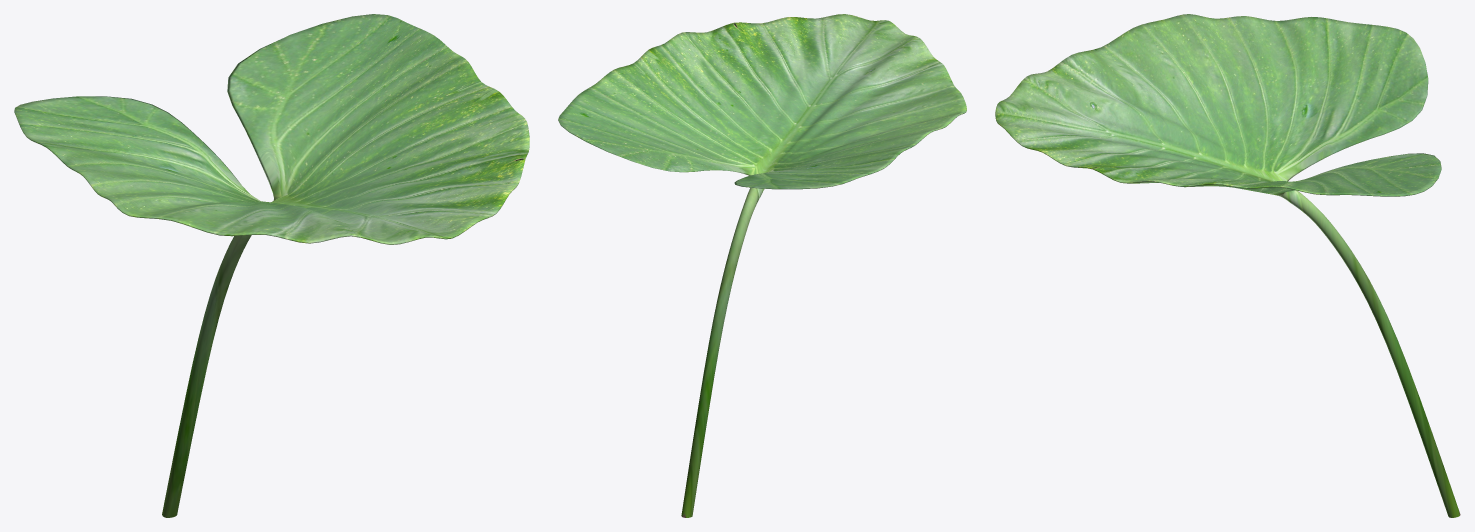
The model's file is TropicalLeaf.obj.
3 views of the same model, side by side, from view 1: azimuth 30°, elevation 25°; view 2: azimuth 150°, elevation 25°; view 3: azimuth 270°, elevation 25° (orthographic). The views are drawn at different scales.
Visible parts, largest first — view 1: Plane; view 2: Plane; view 3: Plane.
Boxes of the visible parts, x1=… form: Plane: x1=14, y1=14, x2=529, y2=517; Plane: x1=558, y1=14, x2=966, y2=517; Plane: x1=995, y1=14, x2=1460, y2=517.
Size of the model in its own units: 3.07 by 3.36 by 3.44.
